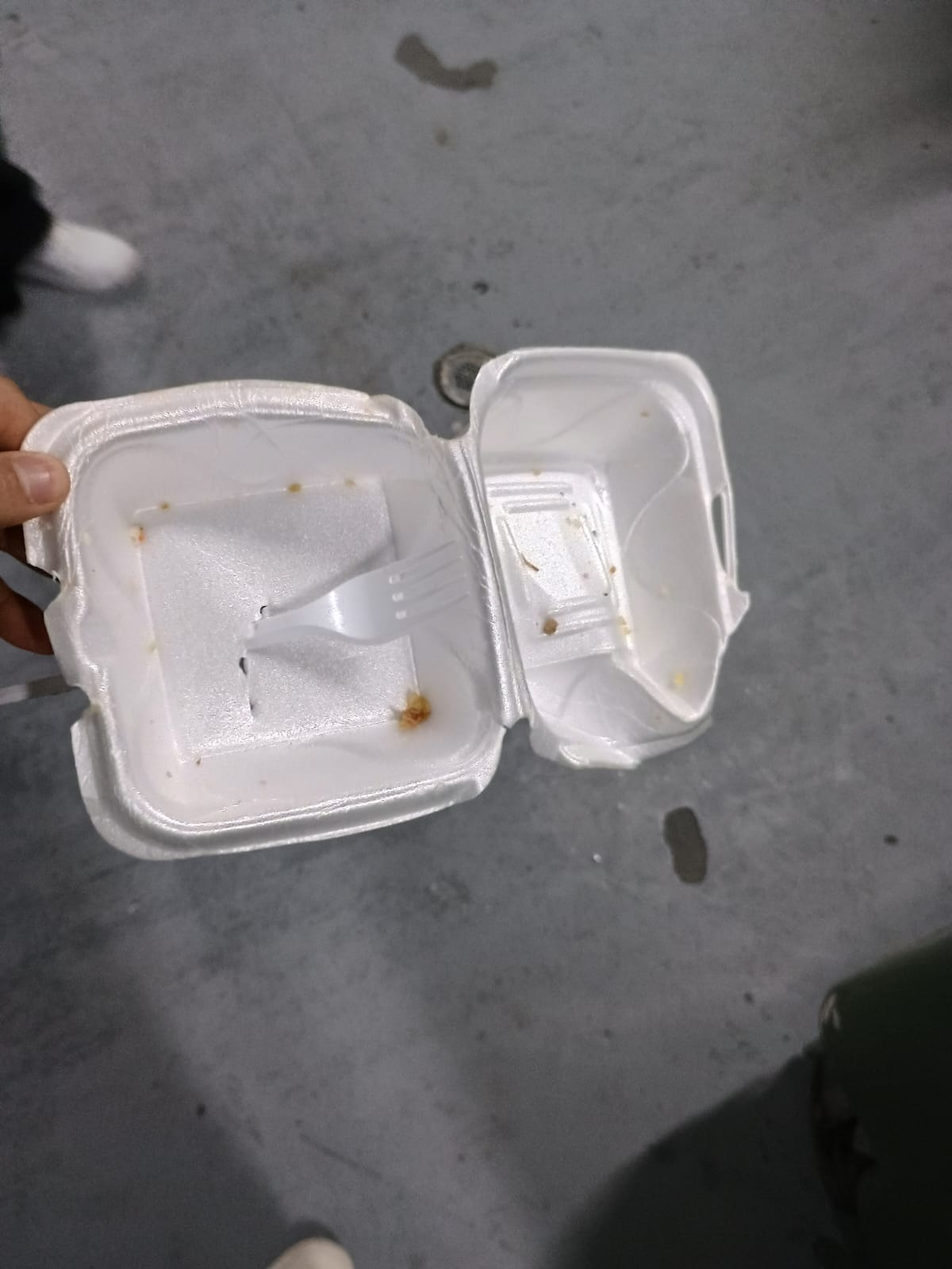Ordinario: (21, 349, 754, 865)
